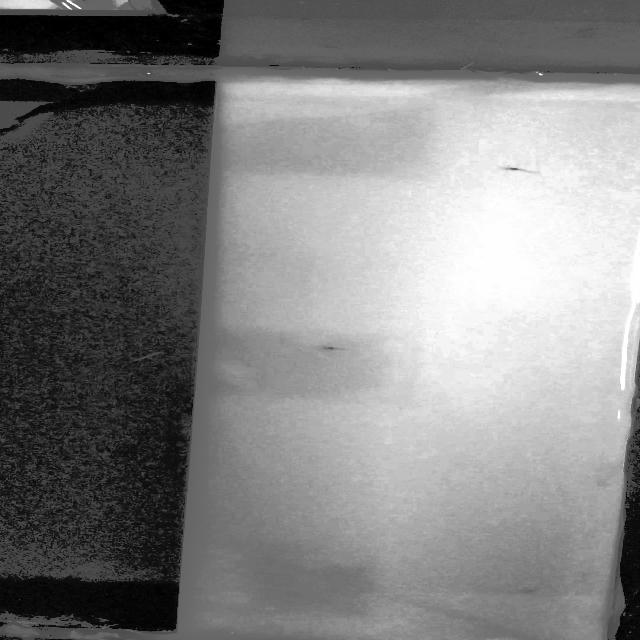shrimp: (496, 162, 530, 177), (313, 342, 340, 358), (518, 586, 542, 599)
